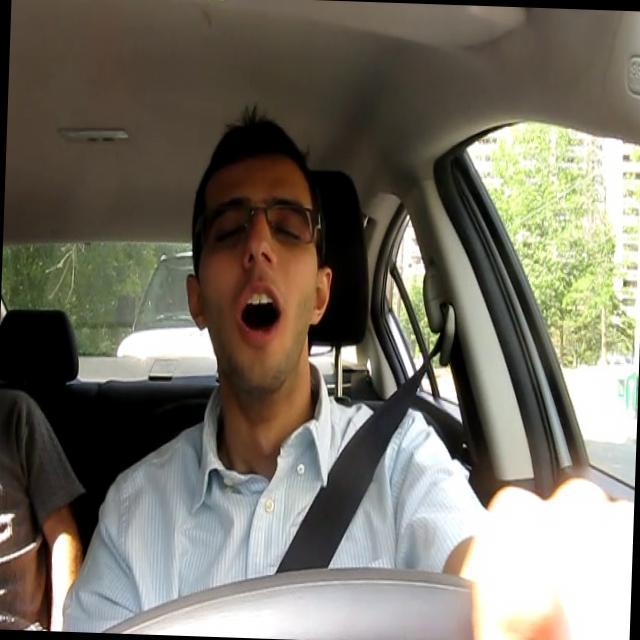open-mouth: (232, 281, 288, 344)
